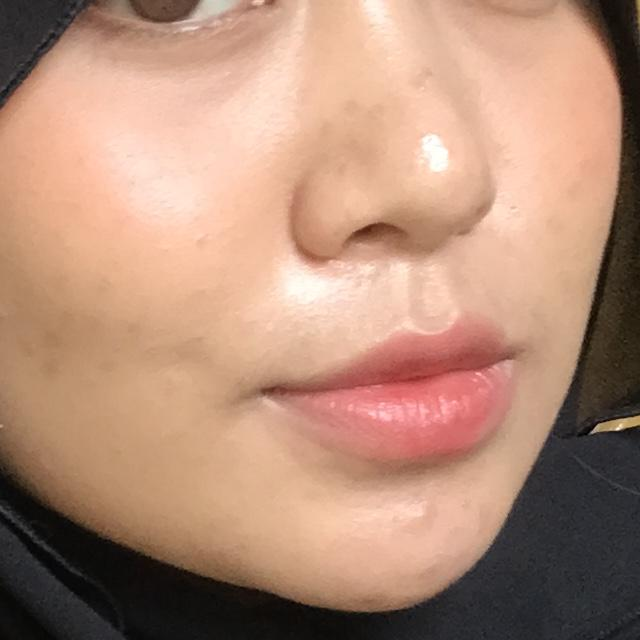mendengar: (0, 0, 406, 640)
